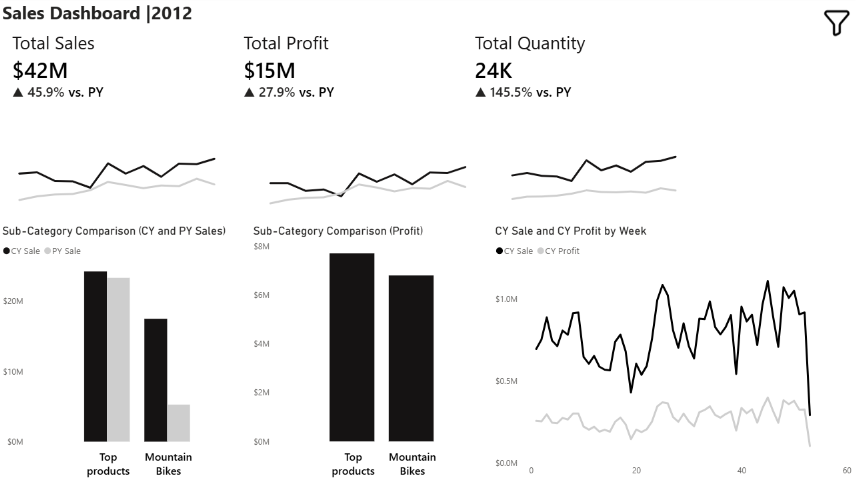

The page's visual inventory and layout, read from the dashboard file:
{"tool":"powerbi","page":{"name":"Page 1","canvas":[1280,720],"ordinal":0},"visuals":[{"type":"slicer","fields":{"Values":["Calendar.Year"]},"box":[1056,0,192,96],"z":0},{"type":"lineChart","fields":{"Category":["Calendar.Month"],"Y":["_measures.CY Sale","_measures.PY Sale"]},"box":[0,192,352,142],"z":1},{"type":"cardVisual","fields":{"Data":["_measures.CY Sale","_measures.CY Profit","_measures.CY Quantity"]},"box":[0,0,1056,192],"z":2},{"type":"lineChart","fields":{"Category":["Calendar.Month"],"Y":["_measures.CY Profit","_measures.PY Profit"]},"box":[352,192,352,142],"z":3},{"type":"lineChart","fields":{"Category":["Calendar.Month"],"Y":["_measures.CY Quantity","_measures.PY Quantity"]},"box":[704,194,352,142],"z":4},{"type":"clusteredColumnChart","title":"Sub-Category Comparison (CY and PY Sales)","fields":{"Category":["gold dim_products.subcategory (groups)"],"Y":["_measures.CY Sale","_measures.PY Sale"]},"box":[0,334,374,386],"z":5},{"type":"clusteredColumnChart","title":"Sub-Category Comparison (Profit)","fields":{"Category":["gold dim_products.subcategory (groups)"],"Y":["_measures.CY Profit"]},"box":[374,334,362,386],"z":6},{"type":"lineChart","fields":{"Y":["_measures.CY Sale","_measures.CY Profit"],"Category":["Calendar.Week"]},"box":[736,334,544,386],"z":7}]}

Visuals, with their boxes in screenshot pixels (x1, y1, x2, y2), scaled from the page's 1280x720 canvas onto the 856x481 screenshot:
slicer - Calendar.Year: [706, 0, 835, 64]
lineChart - Calendar.Month x _measures.CY Sale: [0, 128, 235, 223]
cardVisual - _measures.CY Sale x _measures.CY Profit: [0, 0, 706, 128]
lineChart - Calendar.Month x _measures.CY Profit: [235, 128, 471, 223]
lineChart - Calendar.Month x _measures.CY Quantity: [471, 130, 706, 224]
"Sub-Category Comparison (CY and PY Sales)" clusteredColumnChart: [0, 223, 250, 480]
"Sub-Category Comparison (Profit)" clusteredColumnChart: [250, 223, 492, 480]
lineChart - _measures.CY Sale x _measures.CY Profit: [492, 223, 855, 480]
